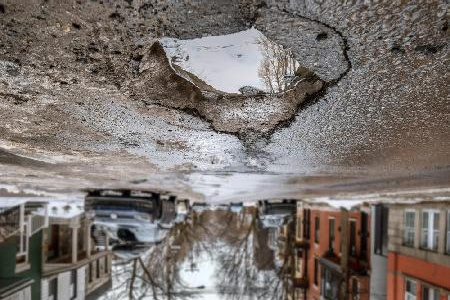pothole: (141, 27, 330, 141), (0, 145, 50, 170)
